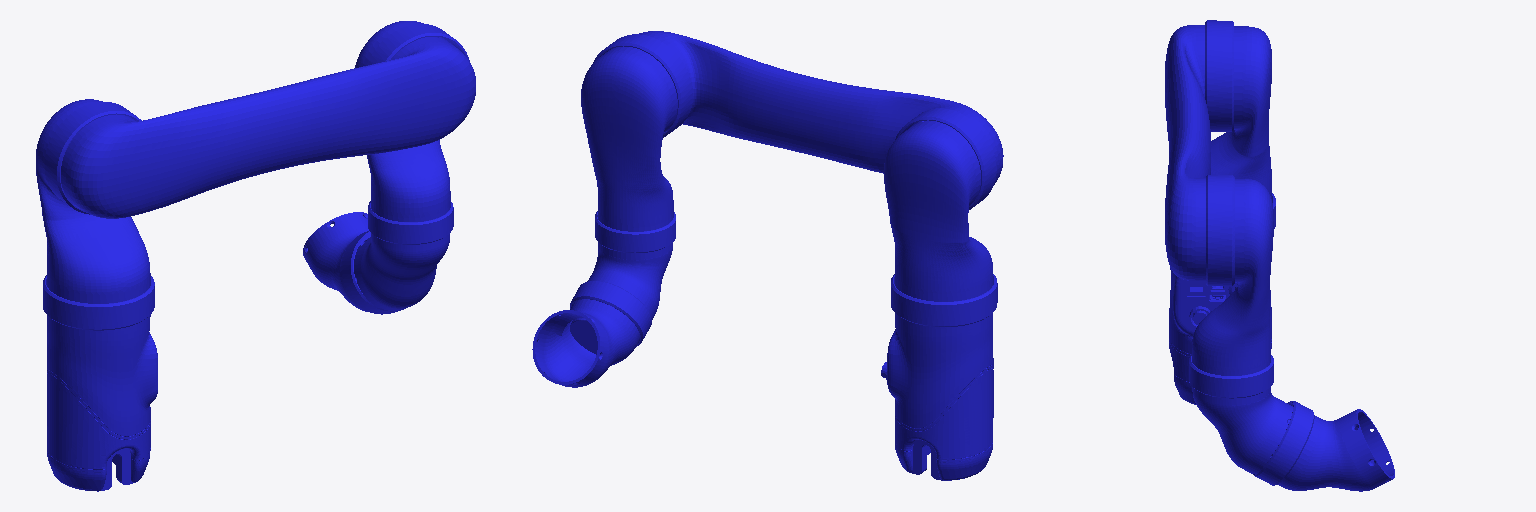
The robot description file, URDF, robot "jaco":
<?xml version="1.0" ?>
<!-- =================================================================================== -->
<!-- |    This document was autogenerated by xacro from jaco_standalone.urdf.xacro     | -->
<!-- |    EDITING THIS FILE BY HAND IS NOT RECOMMENDED                                 | -->
<!-- =================================================================================== -->
<robot name="jaco" xmlns:controller="http://playerstage.sourceforge.net/gazebo/xmlschema/#controller" xmlns:interface="http://playerstage.sourceforge.net/gazebo/xmlschema/#interface" xmlns:sensor="http://playerstage.sourceforge.net/gazebo/xmlschema/#sensor" xmlns:xacro="http://ros.org/wiki/xacro">
  <link name="base_link"/>
  <joint name="base_joint" type="fixed">
    <parent link="base_link"/>
    <child link="jaco_base_link"/>
    <origin xyz="0 0 0"/>
  </joint>
 <gazebo>
    <plugin filename="libgazebo_ros_controller_manager.so" name="gazebo_ros_controller_manager">
      <alwaysOn>true</alwaysOn>
      <updateRate>1000.0</updateRate>
      <robotParam>robot_description</robotParam>
    </plugin>
  </gazebo>
  <transmission name="jaco_1_trans" type="pr2_mechanism_model/SimpleTransmission">
    <actuator name="jaco_1_motor"/>
    <joint name="jaco_joint_1"/>
    <mechanicalReduction>1</mechanicalReduction>
    <motorTorqueConstant>1</motorTorqueConstant>
  </transmission>
  <transmission name="jaco_2_trans" type="pr2_mechanism_model/SimpleTransmission">
    <actuator name="jaco_2_motor"/>
    <joint name="jaco_joint_2"/>
    <mechanicalReduction>1</mechanicalReduction>
    <motorTorqueConstant>1</motorTorqueConstant>
  </transmission>
  <transmission name="jaco_3_trans" type="pr2_mechanism_model/SimpleTransmission">
    <actuator name="jaco_3_motor"/>
    <joint name="jaco_joint_3"/>
    <mechanicalReduction>1</mechanicalReduction>
    <motorTorqueConstant>1</motorTorqueConstant>
  </transmission>
  <transmission name="jaco_4_trans" type="pr2_mechanism_model/SimpleTransmission">
    <actuator name="jaco_4_motor"/>
    <joint name="jaco_joint_4"/>
    <mechanicalReduction>1</mechanicalReduction>
    <motorTorqueConstant>1</motorTorqueConstant>
  </transmission>
  <transmission name="jaco_5_trans" type="pr2_mechanism_model/SimpleTransmission">
    <actuator name="jaco_5_motor"/>
    <joint name="jaco_joint_5"/>
    <mechanicalReduction>1</mechanicalReduction>
    <motorTorqueConstant>1</motorTorqueConstant>
  </transmission>
  <transmission name="jaco_6_trans" type="pr2_mechanism_model/SimpleTransmission">
    <actuator name="jaco_6_motor"/>
    <joint name="jaco_joint_6"/>
    <mechanicalReduction>1</mechanicalReduction>
    <motorTorqueConstant>1</motorTorqueConstant>
  </transmission>
  <transmission name="jaco_finger_1_trans" type="pr2_mechanism_model/SimpleTransmission">
    <actuator name="jaco_finger_1_motor"/>
    <joint name="jaco_finger_joint_1"/>
    <mechanicalReduction>1</mechanicalReduction>
    <motorTorqueConstant>1</motorTorqueConstant>
  </transmission>
  <transmission name="jaco_finger_2_trans" type="pr2_mechanism_model/SimpleTransmission">
    <actuator name="jaco_finger_2_motor"/>
    <joint name="jaco_finger_joint_2"/>
    <mechanicalReduction>1</mechanicalReduction>
    <motorTorqueConstant>1</motorTorqueConstant>
  </transmission>
  <transmission name="jaco_finger_3_trans" type="pr2_mechanism_model/SimpleTransmission">
    <actuator name="jaco_finger_3_motor"/>
    <joint name="jaco_finger_joint_3"/>
    <mechanicalReduction>1</mechanicalReduction>
    <motorTorqueConstant>1</motorTorqueConstant>
  </transmission>

  <material name="JacoGrey">
    <color rgba="0.2 0.2 0.9 1.0"/>
  </material>		

  <link name="jaco_base_link" type="fixed">
    <inertial>
      <mass value="1"/>
      <!--origin xyz="0 0 -0.0525" rpy="0 0 0"/-->
      <origin rpy="0 0 0" xyz="0 0 0"/>
      <inertia ixx="1" ixy="0" ixz="0" iyy="1" iyz="0" izz="1"/>
    </inertial>
    <visual>
      <material name="JacoGrey"/>
      <!--origin xyz="0 0 -0.0525" rpy="0 0 0"/-->
      <geometry>
        <mesh filename="package://jaco_description/meshes/mico_joint_1.DAE" scale="1 1 1"/>
      </geometry>
    </visual>
    <collision>
      <!--origin xyz="0 0 -0.0525" rpy="0 0 0"/-->
      <geometry>
        <mesh filename="package://jaco_description/meshes/mico_joint_1.DAE" scale="1 1 1"/>
      </geometry>
    </collision>
  </link>

  <gazebo reference="jaco_base_link">
    <material>Gazebo/Yellow</material>
    <turnGravityOff>true</turnGravityOff>
  </gazebo>

<joint name="jaco_joint_1" type="revolute">
    <!--origin xyz="0 0 0.2102" rpy="0 0 0"/-->
    <origin rpy="0 0 0" xyz="0 0 0.2775"/>
    <axis rpy="0 0 0" xyz="0 0 -1"/>
    <parent link="jaco_base_link"/>
    <child link="jaco_link_1"/>
    <limit effort="30" lower="-3.14159265359" upper="3.14159265359" velocity="5"/>
  </joint>

  <link name="jaco_link_1">
    <inertial>
      <mass value="1"/>
      <inertia ixx="1" ixy="0" ixz="0" iyy="1" iyz="0" izz="1"/>
      <origin/>
    </inertial>
    <visual>
      <material name="JacoGrey"/>
      <origin rpy="0 0 -1.570796327" xyz="0 0 -0.12"/>
      <geometry>
        <mesh filename="package://jaco_description/meshes/mico_joint_2.DAE" scale="1 1 1"/>
      </geometry>
    </visual>
    <collision>
      <origin rpy="0 0 -1.570796327" xyz="0 0 -0.12"/>
      <geometry>
        <mesh filename="package://jaco_description/meshes/mico_joint_2.DAE" scale="1 1 1"/>
      </geometry>
    </collision>
  </link>
  <gazebo reference="jaco_link_1">
    <material>Gazebo/Red</material>
    <turnGravityOff>false</turnGravityOff>
  </gazebo>

  <joint name="jaco_joint_2" type="revolute">
    <origin rpy="-1.570796327 0 0" xyz="0 -0.016 0"/>
    <axis xyz="0 0 1"/>
    <parent link="jaco_link_1"/>
    <child link="jaco_link_2"/>
    <limit effort="30" lower="-3.14159265359" upper="3.14159265359" velocity="5"/>
  </joint>
  <link name="jaco_link_2">
    <inertial>
      <mass value="1"/>
      <inertia ixx="1" ixy="0" ixz="0" iyy="1" iyz="0" izz="1"/>
      <origin/>
    </inertial>
    <visual>
      <material name="JacoGrey"/>
      <origin rpy="0 1.570796327 0" xyz="0 0 0.015"/>
      <geometry>
        <mesh filename="package://jaco_description/meshes/mico_joint_3.DAE" scale="1 1 1"/>
      </geometry>
    </visual>
    <collision>
      <origin rpy="0 1.570796327 0" xyz="0 0 0.015"/>
      <geometry>
        <mesh filename="package://jaco_description/meshes/mico_joint_3.DAE" scale="1 1 1"/>
      </geometry>
    </collision>
  </link>
  <gazebo reference="jaco_link_2">
    <material>Gazebo/Blue</material>
    <turnGravityOff>false</turnGravityOff>
  </gazebo>

  <joint name="jaco_joint_3" type="revolute">
    <origin rpy="0 0 0" xyz="0.2919 0 0.028"/>
    <axis xyz="0 0 -1"/>
    <parent link="jaco_link_2"/>
    <child link="jaco_link_3"/>
    <limit effort="30" lower="-3.14159265359" upper="3.14159265359" velocity="5"/>
  </joint>
  <link name="jaco_link_3">
    <inertial>
      <mass value="1"/>
      <inertia ixx="1" ixy="0" ixz="0" iyy="1" iyz="0" izz="1"/>
      <origin/>
    </inertial>
    <visual>
      <material name="JacoGrey"/>
      <origin rpy="0 1.570796327 1.570796327" xyz="0 0 -0.012"/>
      <geometry>
        <mesh filename="package://jaco_description/meshes/mico_joint_4.DAE" scale="1.000 1.000 1.000"/>
      </geometry>
    </visual>
    <collision>
      <origin rpy="0 1.570796327 1.570796327" xyz="0 0 -0.012"/>
      <geometry>
        <mesh filename="package://jaco_description/meshes/mico_joint_4.DAE" scale="1.000 1.000 1.000"/>
      </geometry>
    </collision>
  </link>
  <gazebo reference="jaco_link_3">
    <material>Gazebo/Red</material>
    <turnGravityOff>false</turnGravityOff>
  </gazebo>

  <joint name="jaco_joint_4" type="revolute">
    <origin rpy="-1.570796327 0 0" xyz="0 0.16555 -0.003 "/>
    <axis xyz="0 0 -1"/>
    <parent link="jaco_link_3"/>
    <child link="jaco_link_4"/>
    <limit effort="30" lower="-3.14159265359" upper="3.14159265359" velocity="5"/>
  </joint>
<link name="jaco_link_4">
    <inertial>
      <mass value="1"/>
      <inertia ixx="1" ixy="0" ixz="0" iyy="1" iyz="0" izz="1"/>
      <origin/>
    </inertial>
    <visual>
      <material name="JacoGrey"/>
      <origin rpy="0 0 -1.570796327" xyz="0 0 -0.042276823"/>
      <geometry>
        <mesh filename="package://jaco_description/meshes/mico_joint_5.DAE" scale="1 1 1"/>
      </geometry>
    </visual>
    <collision>
      <origin rpy="0 0 -1.570796327" xyz="0 0 -0.042276823"/>
      <geometry>
        <mesh filename="package://jaco_description/meshes/mico_joint_5.DAE" scale="1 1 1"/>
      </geometry>
    </collision>
  </link>
  <gazebo reference="jaco_link_4">
    <material>Gazebo/Blue</material>
    <turnGravityOff>false</turnGravityOff>
  </gazebo>

 <joint name="jaco_joint_5" type="revolute">
     <origin rpy="1.1278 0 0" xyz="0 -0.079855 0.03998"/>
    <axis xyz="0 0 1"/>
    <parent link="jaco_link_4"/>
    <child link="jaco_link_5"/>
    <limit effort="30" lower="-3.14159265359" upper="3.14159265359" velocity="5"/>
  </joint>
  <link name="jaco_link_5">
    <inertial>
      <mass value="1.0"/>
      <inertia ixx="1" ixy="0" ixz="0" iyy="1" iyz="0" izz="1"/>
      <origin/>
    </inertial>
    <visual>
      <material name="JacoGrey"/>
 <origin rpy="0 -0.959931089 1.570796327" xyz="0 0 -0.042276823"/>
      <geometry>
        <mesh filename="package://jaco_description/meshes/mico_joint_6.DAE" scale="1 1 1"/>
      </geometry>
    </visual>
    <collision>
 <origin rpy="0 -0.959931089 1.570796327" xyz="0 0 -0.042276823"/>
      <geometry>
        <mesh filename="package://jaco_description/meshes/mico_joint_6.DAE" scale="1 1 1"/>
      </geometry>
    </collision>
  </link>
  <gazebo reference="jaco_link_5">
    <material>Gazebo/Red</material>
    <turnGravityOff>false</turnGravityOff>
  </gazebo>

<joint name="jaco_joint_6" type="revolute">
    <!--origin xyz="0 -0.186174274 0.13036063" rpy="0.959931089 0 0"/-->
    <origin rpy="-0.959931089 0 3.1415926535897931" xyz="0 -0.186174274 0.13036063"/>
    <!--<origin xyz="0 0 0" rpy="0 0 -3.14"/>-->
    <axis xyz="0 0 -1"/>
    <parent link="jaco_link_5"/>
    <child link="jaco_link_6"/>
    <limit effort="30" lower="-3.14159265359" upper="3.14159265359" velocity="5"/>
  </joint>
  <link name="jaco_link_6">
    <inertial>
      <mass value="0.3"/>
      <inertia ixx="1" ixy="0" ixz="0" iyy="1" iyz="0" izz="1"/>
      <origin/>
    </inertial>
    <visual>
      <material name="JacoGrey"/>
      <origin rpy="0 0 -3.1415926535897931" xyz="0 0 -0.1850"/>
      <!--<origin xyz="0 0 -0.1850" rpy="0 0 0"/>      -->
      <geometry>
        <mesh filename="package://jaco_description/meshes/mico_joint_7.DAE" scale="1 1 1"/>
      </geometry>
    </visual>
    <collision>
      <origin rpy="0 0 -3.1415926535897931" xyz="0 0 -0.1850"/>
      <!--<origin xyz="0 0 -0.1850" rpy="0 0 0"/>-->
      <geometry>
        <mesh filename="package://jaco_description/meshes/mico_joint_7.DAE" scale="1 1 1"/>
      </geometry>
    </collision>
  </link>
  <gazebo reference="jaco_link_6">
    <material>Gazebo/Blue</material>
    <turnGravityOff>false</turnGravityOff>
  </gazebo>
  <joint name="jaco_gripper_tool_frame_joint" type="fixed">
    <parent link="jaco_link_6"/>
    <child link="jaco_gripper_tool_frame"/>
    <origin rpy="0.23 -1.570796327 1.570796327" xyz="0 0 -0.08"/>
  </joint>
  <link name="jaco_gripper_tool_frame">
    <!-- This is the coordinate system of the tool (this is the position
         used in IK etc., relative to the base frame); there is no actual
         arm part attached to this link -->
  </link>

<joint name="jaco_finger_joint_1" type="revolute">
    <!--origin xyz="-0.036 -0.021 -0.07" rpy="0 0 0"/-->
    <!-- changed becuase it look funny in simulation-->
    <origin rpy="0 0 -1.57" xyz="-0.0009 0.03610 -0.079888"/>
    <axis xyz="0 1 0"/>
    <parent link="jaco_link_6"/>
    <child link="jaco_finger_link_1"/>
    <limit effort="30" lower="0.004" upper="1.044" velocity="5"/>
  </joint>
  <link name="jaco_finger_link_1">
    <inertial>
      <mass value="0.05"/>
      <inertia ixx="1" ixy="0" ixz="0" iyy="1" iyz="0" izz="1"/>
      <origin/>
    </inertial>
    <visual>
      <origin rpy="0 0 0" xyz="0 0 0"/>
      <geometry>
        <mesh filename="package://jaco_description/meshes/finger.stl" scale="1 1 1"/>
      </geometry>
    </visual>
    <collision>
      <origin rpy="0 0 0" xyz="0 0 0"/>
      <geometry>
        <mesh filename="package://jaco_description/meshes/finger.stl" scale="1 1 1"/>
      </geometry>
    </collision>
  </link>
  <gazebo reference="jaco_finger_link_1">
    <material>Gazebo/Red</material>
    <turnGravityOff>false</turnGravityOff>
  </gazebo>
  <joint name="jaco_finger_joint_2" type="revolute">
    <!--origin xyz="-0.036 0.021 -0.07" rpy="0 0 0"/-->
    <origin rpy="0 0 1.57" xyz="-0.0009 -0.03610 -0.079888"/>
    <axis xyz="0 1 0"/>
    <parent link="jaco_link_6"/>
    <child link="jaco_finger_link_2"/>
    <limit effort="30" lower="0.004" upper="1.044" velocity="5"/>
  </joint>
  <link name="jaco_finger_link_2">
    <inertial>
      <mass value="0.05"/>
      <inertia ixx="1" ixy="0" ixz="0" iyy="1" iyz="0" izz="1"/>
      <origin/>
    </inertial>
    <visual>
      <origin rpy="0 0 0" xyz="0 0 0"/>
      <geometry>
        <mesh filename="package://jaco_description/meshes/finger.stl" scale="1 1 1"/>
      </geometry>
    </visual>
    <collision>
      <origin rpy="0 0 0" xyz="0 0 0"/>
      <geometry>
        <mesh filename="package://jaco_description/meshes/finger.stl" scale="1 1 1"/>
      </geometry>
    </collision>
  </link>
  <gazebo reference="jaco_finger_link_2">
    <material>Gazebo/Red</material>
    <turnGravityOff>false</turnGravityOff>
  </gazebo>

</robot>

--- What the picture shows (computed from the rendered views, not written in the file) ---
The picture shows the robot from 3 angles, left to right: view 1: azimuth 30°, elevation 25°; view 2: azimuth 150°, elevation 25°; view 3: azimuth 270°, elevation 25°; orthographic projection.
Robot: jaco — 11 links, 10 joints (8 revolute, 2 fixed); root link base_link; default pose: joints at zero except 2 at the middle of their limits (jaco_finger_joint_1 = 0.524, jaco_finger_joint_2 = 0.524).
Visible links, largest first — view 1: jaco_link_2, jaco_base_link, jaco_link_1, jaco_link_3, jaco_link_4, jaco_link_5; view 2: jaco_link_2, jaco_link_1, jaco_link_3, jaco_base_link, jaco_link_5, jaco_link_4; view 3: jaco_link_2, jaco_link_3, jaco_link_5, jaco_link_4, jaco_link_1, jaco_base_link.
Boxes of the visible links, bbox=[...] form: jaco_link_2: bbox=[44, 37, 475, 218]; jaco_base_link: bbox=[47, 315, 157, 491]; jaco_link_1: bbox=[36, 99, 154, 330]; jaco_link_3: bbox=[355, 21, 469, 221]; jaco_link_4: bbox=[354, 201, 453, 310]; jaco_link_5: bbox=[303, 212, 405, 314]; jaco_link_2: bbox=[639, 31, 1003, 209]; jaco_link_1: bbox=[884, 120, 997, 326]; jaco_link_3: bbox=[581, 34, 692, 231]; jaco_base_link: bbox=[881, 313, 993, 480]; jaco_link_5: bbox=[532, 281, 651, 387]; jaco_link_4: bbox=[587, 211, 675, 319]; jaco_link_2: bbox=[1165, 20, 1233, 280]; jaco_link_3: bbox=[1192, 175, 1273, 375]; jaco_link_5: bbox=[1254, 401, 1394, 491]; jaco_link_4: bbox=[1189, 355, 1292, 474]; jaco_link_1: bbox=[1211, 26, 1275, 228]; jaco_base_link: bbox=[1169, 268, 1271, 404].
Size in the robot's own frame: 0.3811 by 0.1844 by 0.3223 metres.
6 mesh visuals loaded from 8 distinct referenced files (6 Collada DAE); not drawn: 3 (reference not matched to a file when rendering).
